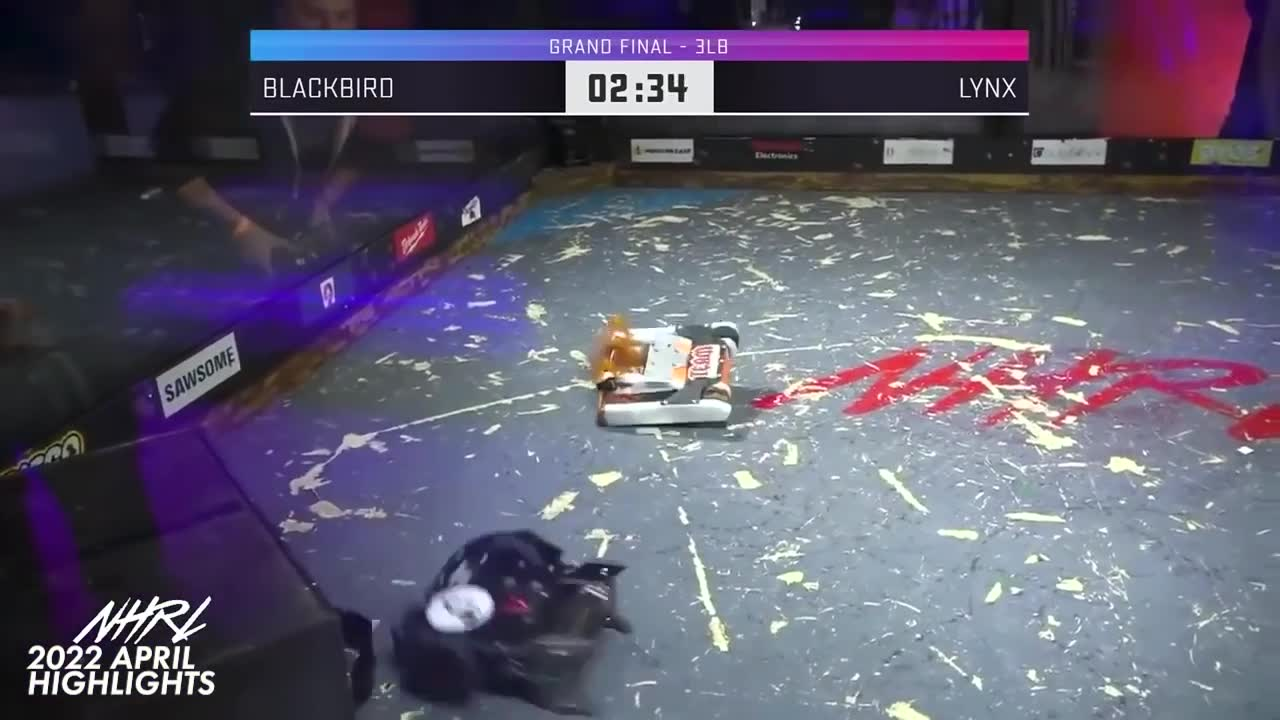combatbot: (395, 529, 618, 713), (589, 322, 738, 421)
housebot: (0, 421, 350, 717)
